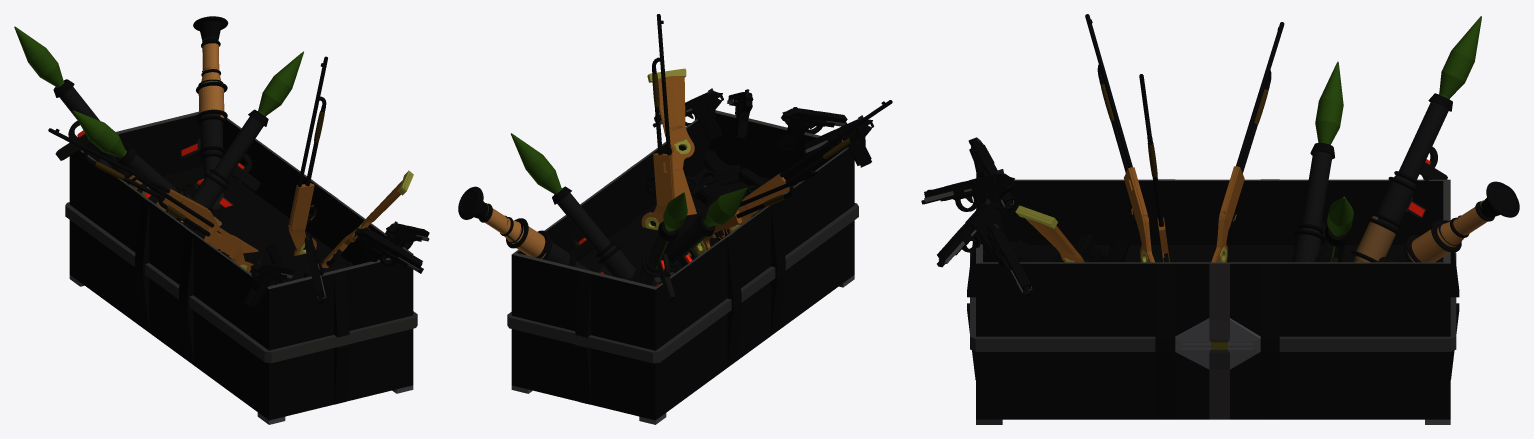
File: LowePolyShop.fbx
3 views of the same model, side by side, from view 1: azimuth 30°, elevation 25°; view 2: azimuth 150°, elevation 25°; view 3: azimuth 270°, elevation 25° (orthographic). The views are drawn at different scales.
Parts seen in each view (by area): view 1: Chest, ChestDarkness, RPG.006, RPG.008, RPG.010, shotgun.003, RPG.003, shotgun.001, shotgun, TopHalf.011, TopHalf.003, shotgun.004 (+2 smaller); view 2: Chest, RPG.008, RPG.006, shotgun.004, ChestDarkness, shotgun.003, RPG.010, RPG.003, shotgun, TopHalf, shotgun.001, TopHalf.003 (+4 smaller); view 3: Chest, RPG.010, RPG.003, RPG.006, ChestDarkness, shotgun.001, shotgun, TopHalf, TopHalf.011, RPG.008, TopHalf.010, shotgun.004 (+3 smaller).
Part boxes in pixels (box(x1,y1,x2,y2)): Chest: box(65, 111, 417, 424); ChestDarkness: box(162, 166, 353, 284); RPG.006: box(175, 16, 228, 209); RPG.008: box(181, 51, 303, 222); RPG.010: box(14, 26, 168, 212); shotgun.003: box(288, 56, 327, 255); RPG.003: box(72, 110, 221, 229); shotgun.001: box(48, 128, 258, 253); shotgun: box(137, 176, 253, 273); TopHalf.011: box(354, 227, 423, 273); TopHalf.003: box(243, 259, 294, 306); shotgun.004: box(320, 170, 413, 267); Chest: box(507, 110, 858, 424); RPG.008: box(511, 133, 636, 281); RPG.006: box(458, 186, 591, 271); shotgun.004: box(647, 68, 699, 215); ChestDarkness: box(577, 167, 794, 282); shotgun.003: box(641, 14, 674, 230); RPG.010: box(632, 192, 687, 301); RPG.003: box(634, 187, 746, 281); shotgun: box(711, 100, 892, 237); TopHalf: box(778, 107, 847, 150); shotgun.001: box(686, 170, 817, 256); TopHalf.003: box(803, 115, 873, 167); Chest: box(967, 179, 1459, 424); RPG.010: box(1351, 16, 1481, 262); RPG.003: box(1292, 61, 1343, 262); RPG.006: box(1378, 181, 1519, 262); ChestDarkness: box(983, 245, 1443, 262); shotgun.001: box(1211, 22, 1284, 262); shotgun: box(1085, 14, 1154, 262); TopHalf: box(921, 169, 1014, 230); TopHalf.011: box(937, 198, 1001, 267); RPG.008: box(1315, 196, 1353, 262); TopHalf.010: box(986, 223, 1032, 296); shotgun.004: box(1015, 205, 1084, 262).
Size of the model in its own units: 659 by 639 by 1018.
